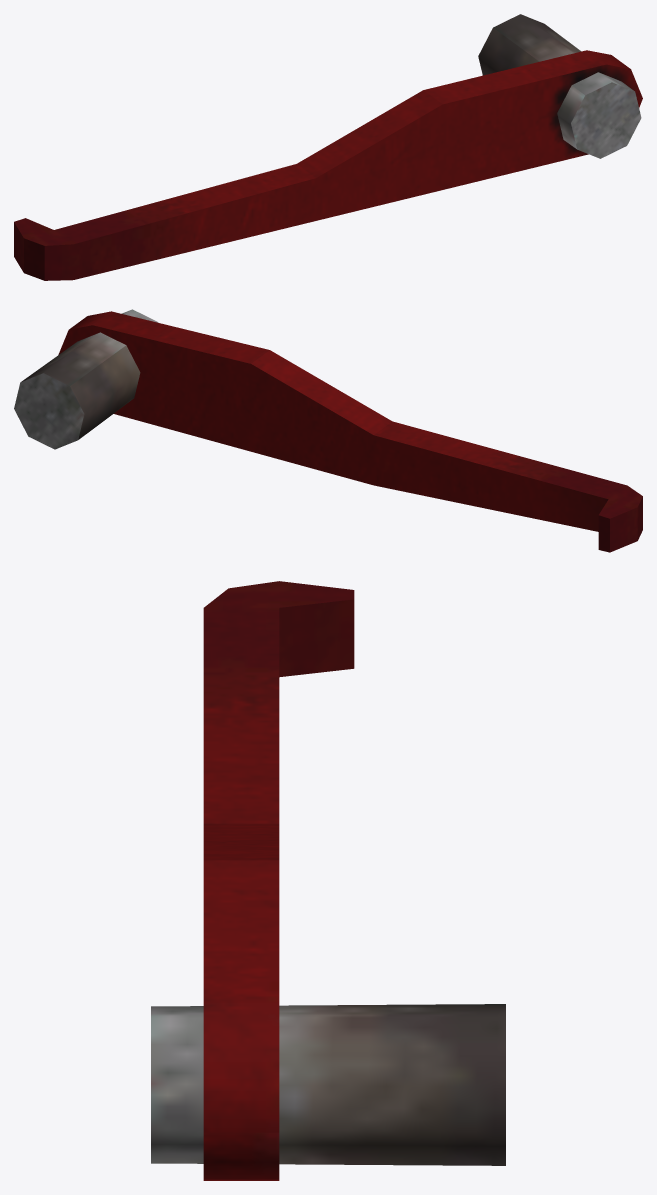
File: hjk_red_latch_lod0.glb
The picture shows the model from 3 angles, top to bottom: view 1: azimuth 30°, elevation 25°; view 2: azimuth 150°, elevation 25°; view 3: azimuth 270°, elevation 25°; orthographic projection. The views are drawn at different scales.
Visible parts, largest first — view 1: surf0; view 2: surf0; view 3: surf0.
Part boxes in pixels (box(x1,y1,x2,y2)): surf0: box(14, 14, 642, 280); surf0: box(14, 309, 642, 552); surf0: box(151, 581, 505, 1180).
Size of the model in its own units: 14.66 by 2.21 by 3.88.
